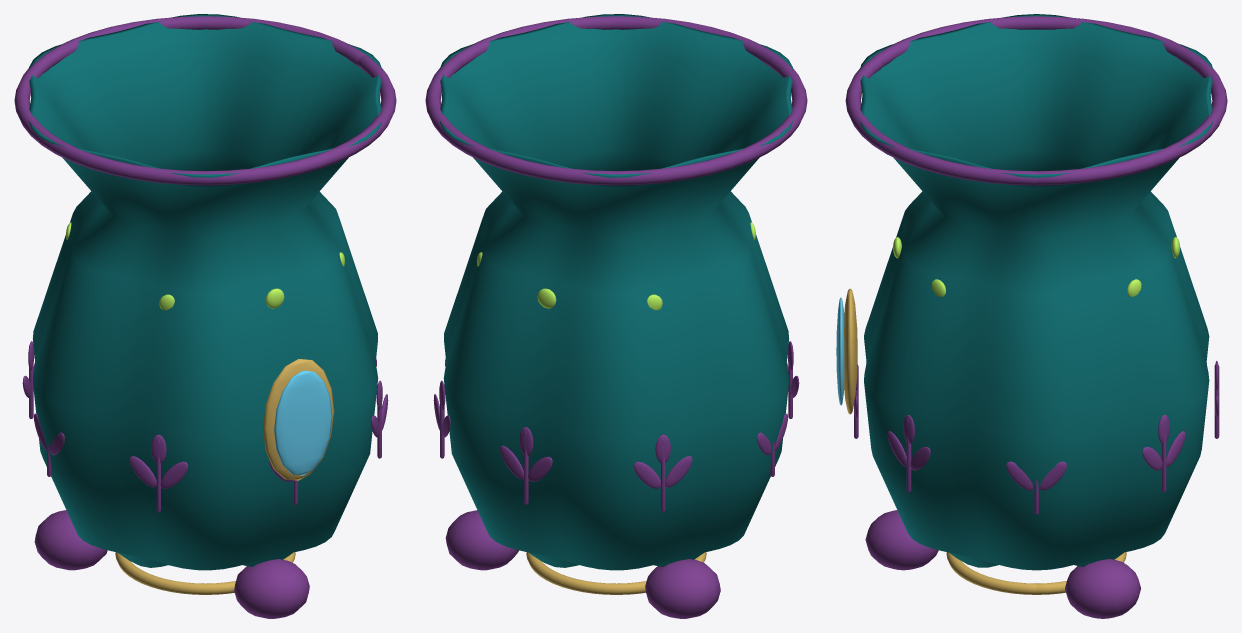
Rendered from stock_vase_xeno_bloom.glb.
3 views of the same model, side by side, from view 1: azimuth 30°, elevation 25°; view 2: azimuth 150°, elevation 25°; view 3: azimuth 270°, elevation 25° (orthographic).
Visible parts, largest first — view 1: Continuous_hollow_vessel, Rolled_open_lip, Blue_window, Three_stable_feet, Three_stable_feet.002, Gold_window_frame, Base_ring; view 2: Continuous_hollow_vessel, Rolled_open_lip, Three_stable_feet.002, Three_stable_feet.001, Base_ring; view 3: Continuous_hollow_vessel, Rolled_open_lip, Three_stable_feet.001, Three_stable_feet, Base_ring, Gold_window_frame, Blue_window.
Boxes of the visible parts, x1,y1,x2,y2 form: Continuous_hollow_vessel: (28, 14, 382, 570); Rolled_open_lip: (14, 16, 396, 185); Blue_window: (274, 370, 332, 475); Three_stable_feet: (234, 559, 309, 618); Three_stable_feet.002: (34, 510, 107, 570); Gold_window_frame: (263, 359, 334, 480); Base_ring: (115, 552, 295, 594); Continuous_hollow_vessel: (439, 14, 793, 570); Rolled_open_lip: (425, 16, 807, 185); Three_stable_feet.002: (645, 559, 720, 618); Three_stable_feet.001: (445, 510, 518, 570); Base_ring: (526, 552, 706, 594); Continuous_hollow_vessel: (860, 14, 1212, 570); Rolled_open_lip: (845, 16, 1227, 185); Three_stable_feet.001: (1065, 559, 1140, 618); Three_stable_feet: (865, 510, 938, 570); Base_ring: (946, 552, 1126, 594); Gold_window_frame: (844, 288, 857, 414); Blue_window: (836, 297, 844, 405).
Bounding box in the file's own units: 0.252 × 0.341 × 0.256.
